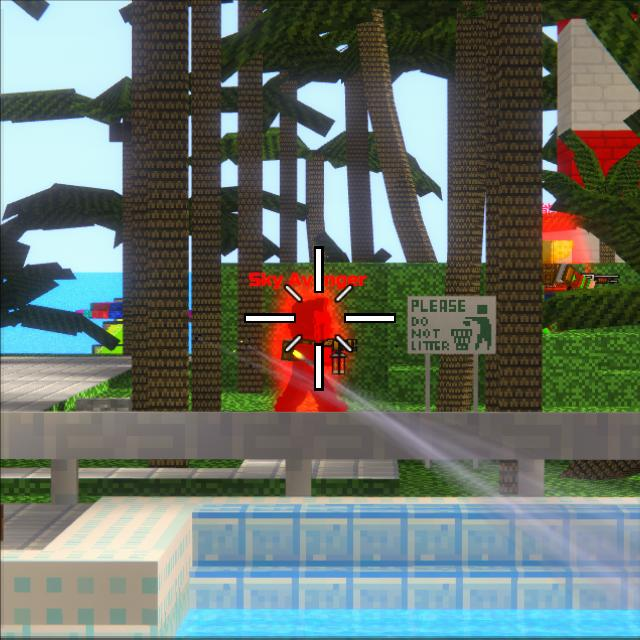Enemy: (274, 302, 348, 411), (543, 240, 595, 299)
